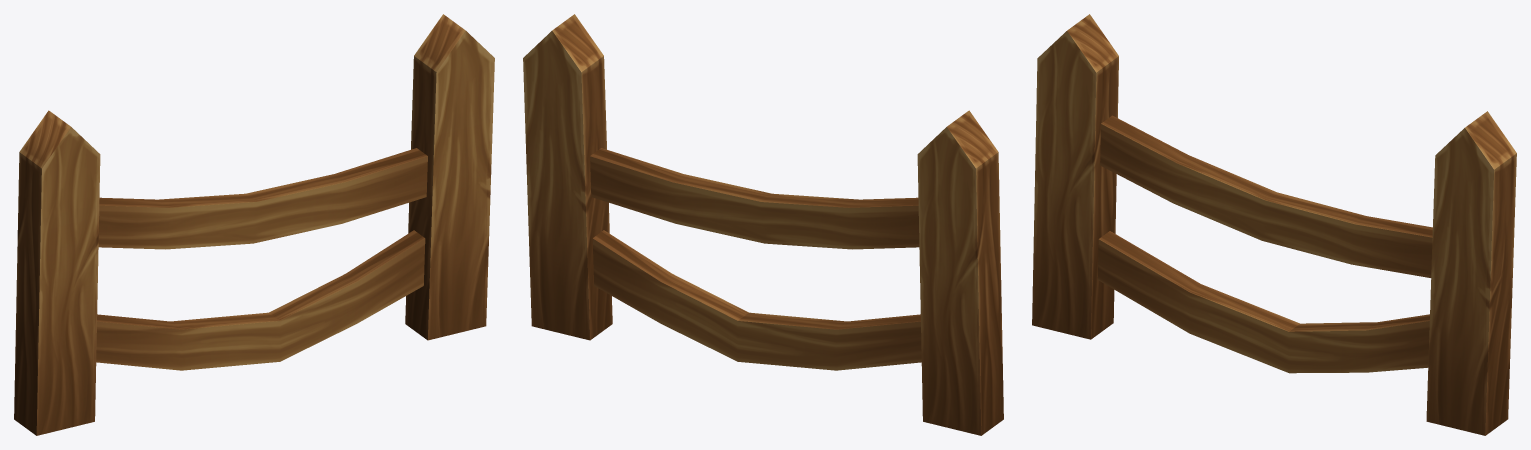
The model's file is Fence_2.FBX.
3 views of the same model, side by side, from view 1: azimuth 30°, elevation 25°; view 2: azimuth 150°, elevation 25°; view 3: azimuth 330°, elevation 25° (orthographic).
Visible parts, largest first — view 1: Fence_2; view 2: Fence_2; view 3: Fence_2.
Part boxes in pixels (<box>): Fence_2: <box>14,14,494,435</box>; Fence_2: <box>523,14,1003,435</box>; Fence_2: <box>1032,14,1516,435</box>.
Size of what is drawn, in the model's own units: 234 by 20 by 147.
